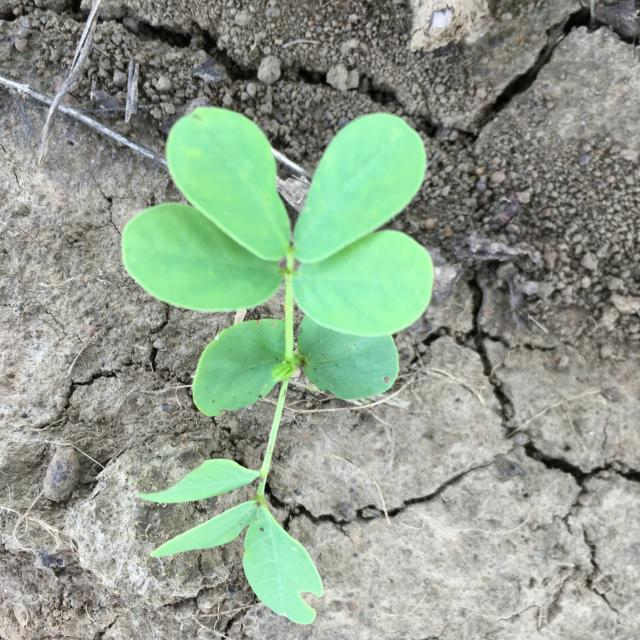Sicklepod: (121, 106, 434, 624)
